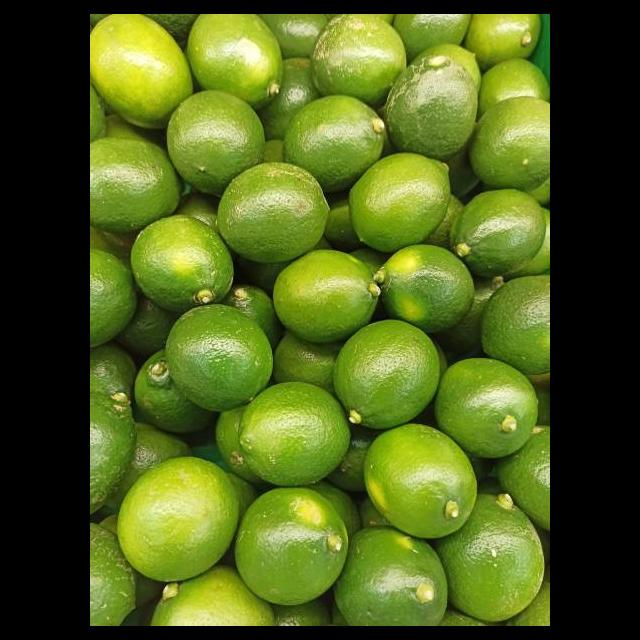lime: (367, 424, 477, 542), (379, 44, 482, 164), (218, 161, 328, 262), (185, 14, 285, 109)
